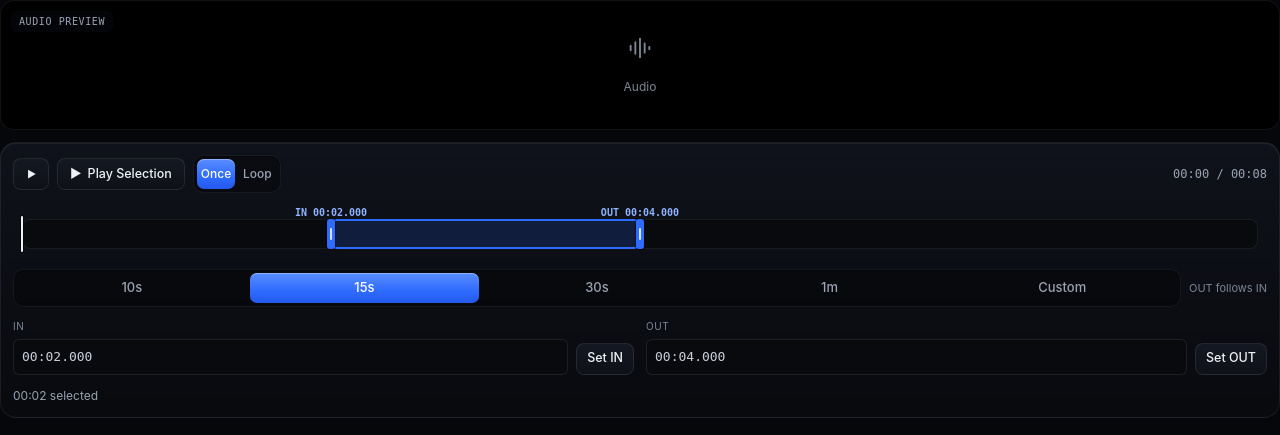
ordinary Play switches directly from active selection playback
The width and height of the screenshot is (1280, 435).
Click the button "▶ Play Selection": click(121, 174) 57,158 -> 185,190
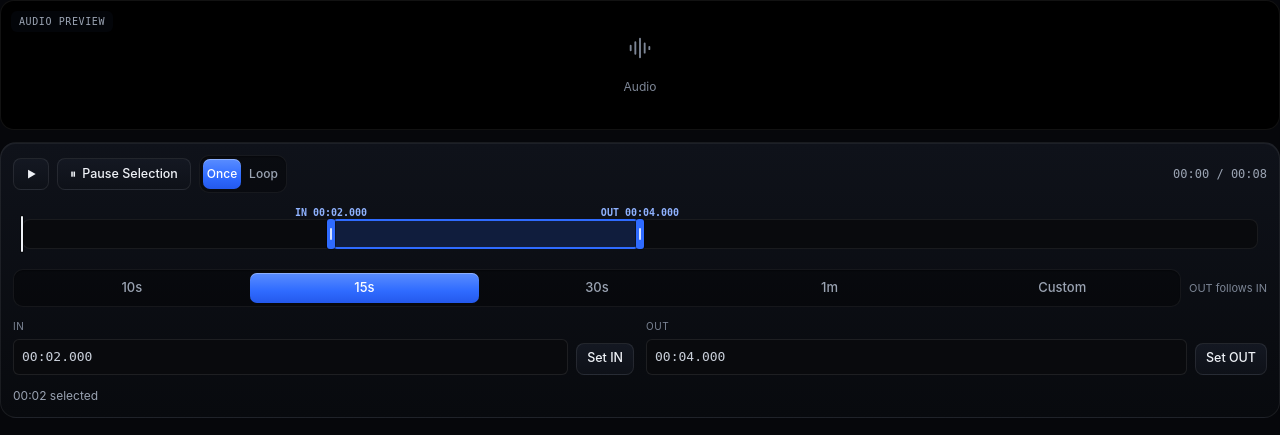
Click the button named "Play": click(31, 174) 13,158 -> 49,190
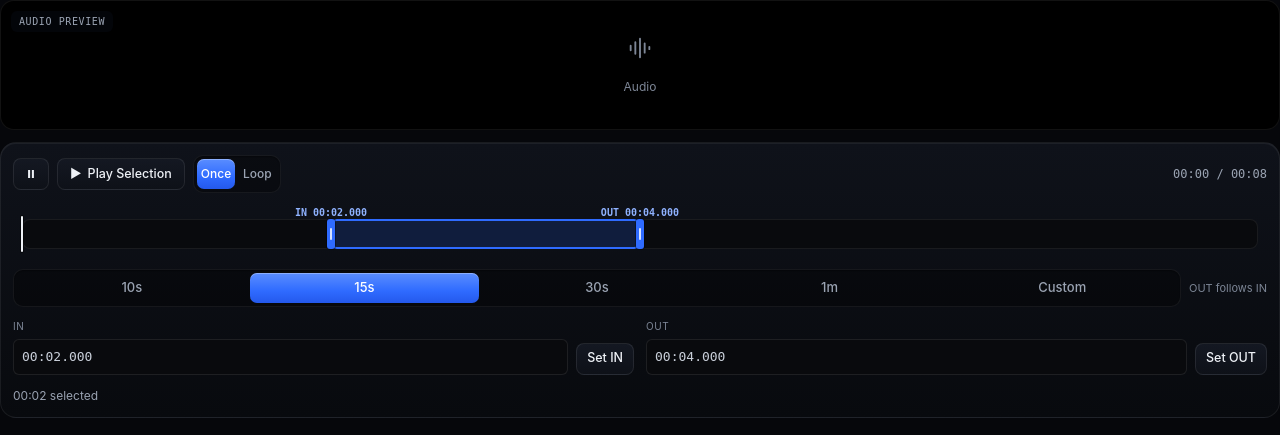
expect the button named "Pause" is shown: met, box 13,158 -> 49,190
